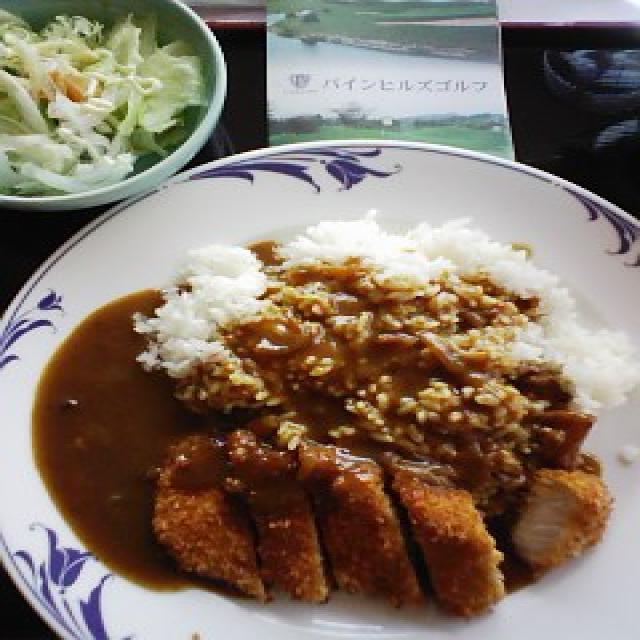猪肉菜式: (0, 132, 640, 640)
